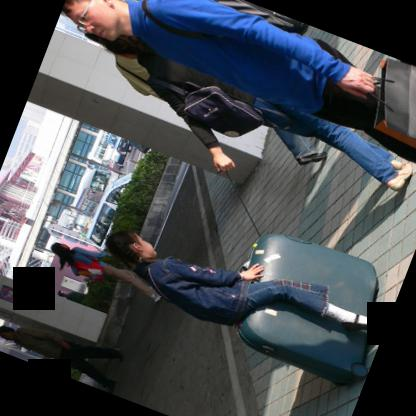backpack: (70, 257, 105, 281)
handbag: (144, 76, 265, 138)
suitcase: (234, 232, 379, 385)
